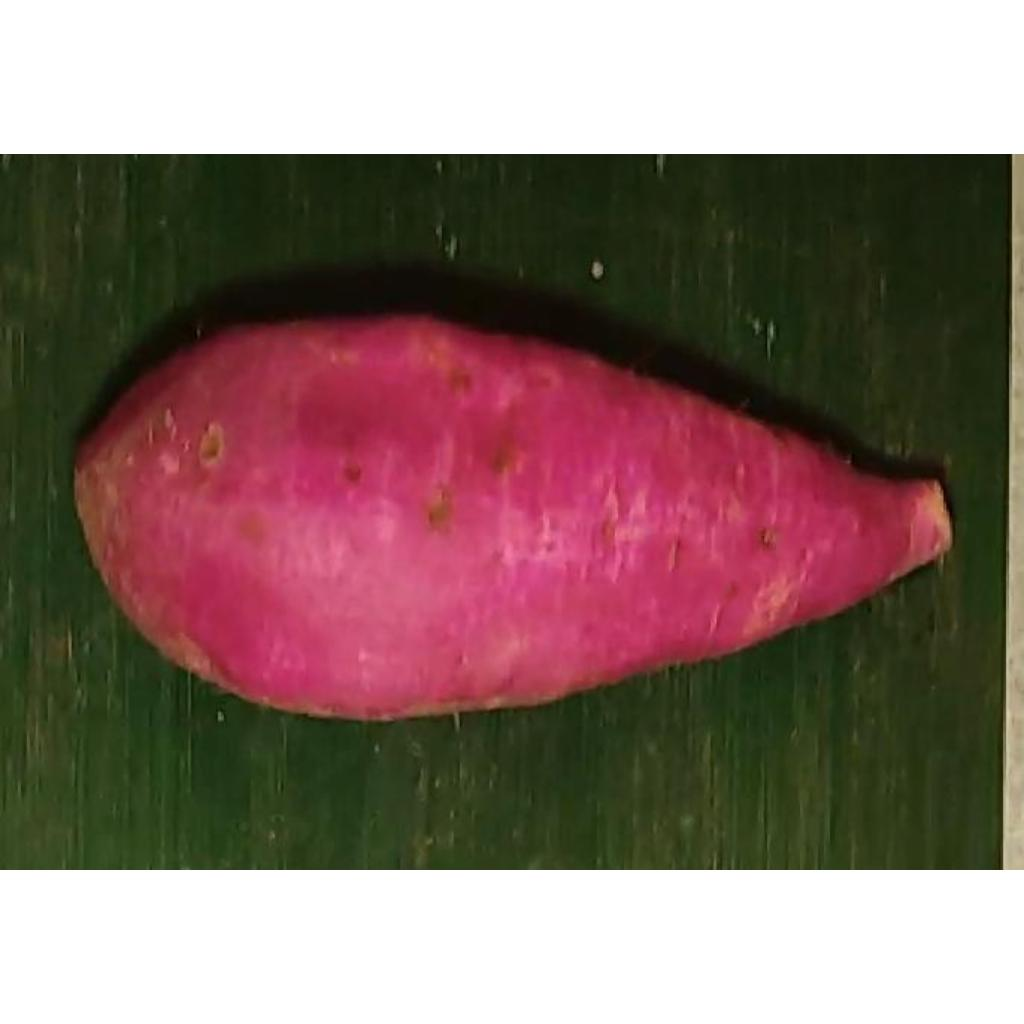Sweet Potato: (76, 314, 951, 726)
